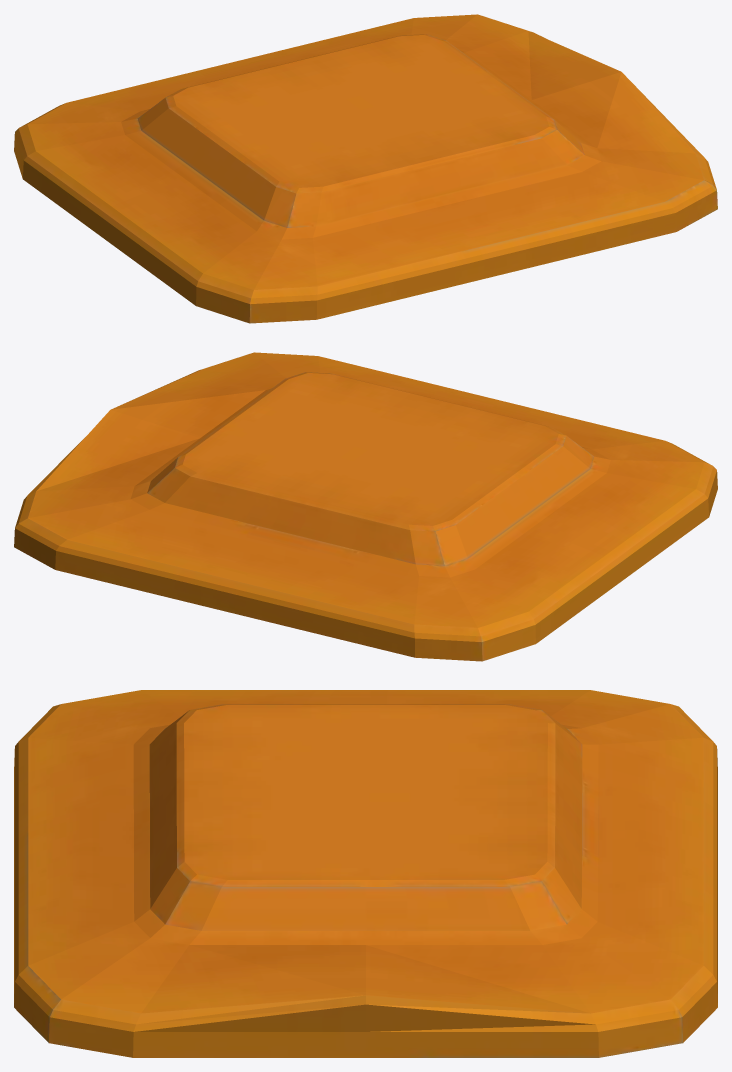
File: strProp_55.glb
3 renders of one model, top to bottom at view 1: azimuth 30°, elevation 25°; view 2: azimuth 150°, elevation 25°; view 3: azimuth 270°, elevation 25°, orthographic. The views are drawn at different scales.
Parts seen in each view (by area): view 1: geometry_0; view 2: geometry_0; view 3: geometry_0.
Part boxes in pixels (x1,y1,x2,y2): geometry_0: (14,14,717,323); geometry_0: (14,352,717,661); geometry_0: (14,690,717,1057).
Bounding box in the file's own units: 0.6011 × 0.0779 × 0.529.
Materials: 1 (1 with a texture image).
